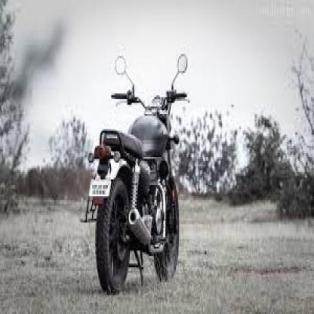Motocicleta: (82, 45, 191, 295)
